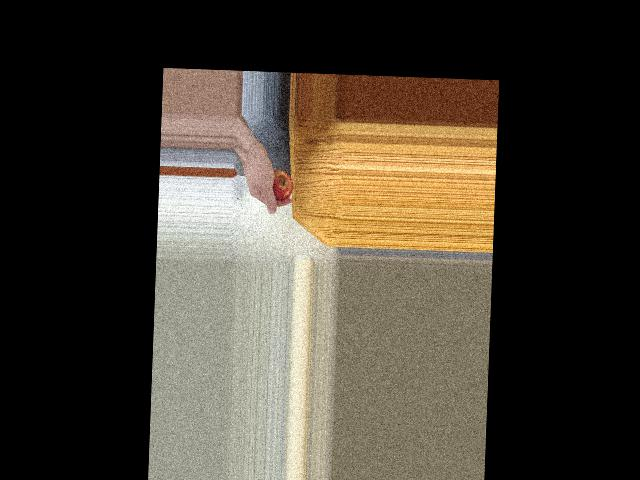apple: (263, 168, 293, 199)
